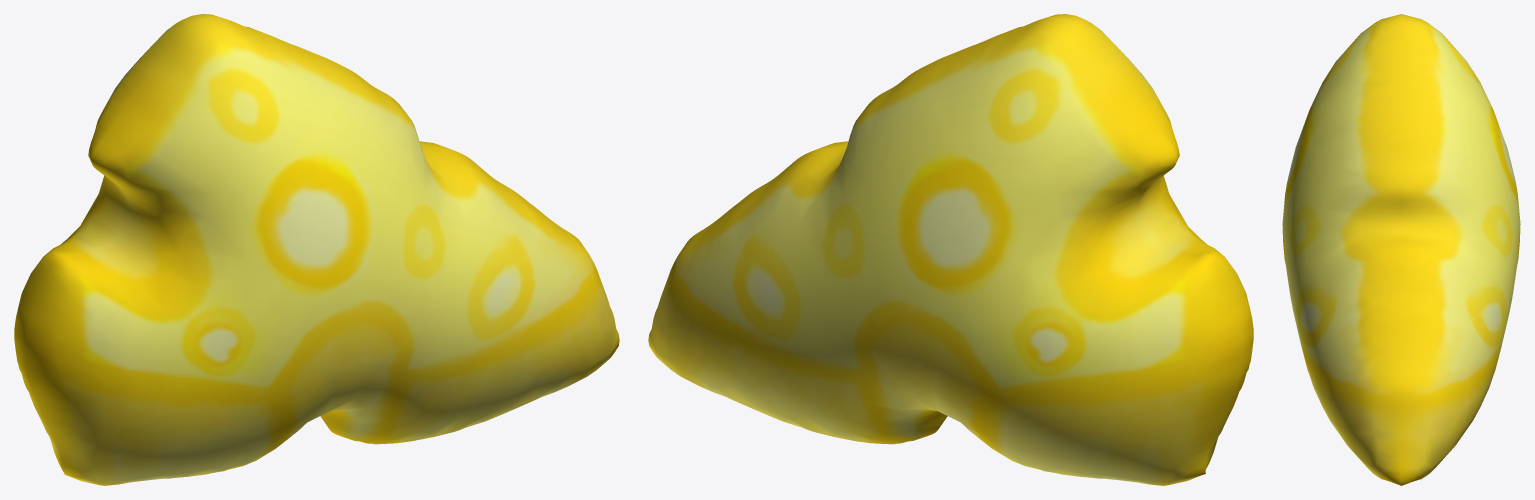
The model's file is cheese.glb.
The picture shows the model from 3 angles, left to right: view 1: azimuth 30°, elevation 25°; view 2: azimuth 150°, elevation 25°; view 3: azimuth 270°, elevation 25°; orthographic projection. The views are drawn at different scales.
Parts seen in each view (by area): view 1: Mesh_0.001; view 2: Mesh_0.001; view 3: Mesh_0.001.
Part boxes in pixels (<box>): Mesh_0.001: <box>14,14,619,485</box>; Mesh_0.001: <box>648,14,1253,485</box>; Mesh_0.001: <box>1282,14,1520,485</box>.
Size of the model in its own units: 176 by 131 by 81.83.
Materials: 1 (1 with a texture image).
